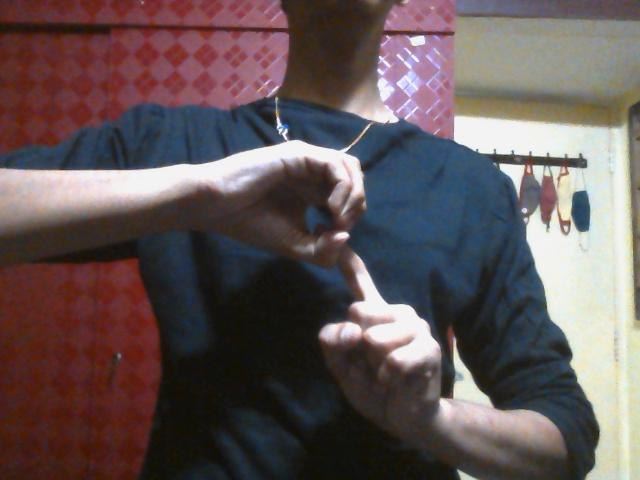Q: (216, 140, 444, 439)
